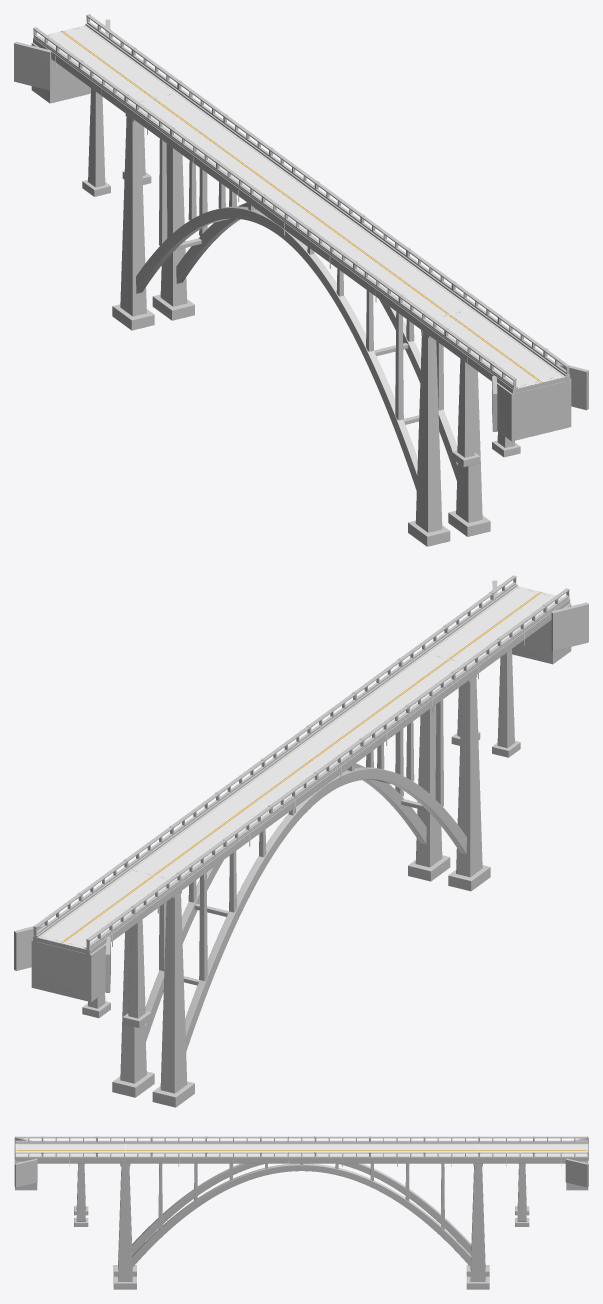
File: bridge-lod0.fbx
The picture shows the model from 3 angles, top to bottom: view 1: azimuth 30°, elevation 25°; view 2: azimuth 150°, elevation 25°; view 3: azimuth 270°, elevation 25°; orthographic projection. The views are drawn at different scales.
Parts seen in each view (by area): view 1: BridgeSupports_LOD0.001, BridgeDeck_LOD0.001, BridgeParapets_LOD0.001, BridgeArches_LOD0.001, BridgeRoadPaint_LOD0.001; view 2: BridgeSupports_LOD0.001, BridgeDeck_LOD0.001, BridgeParapets_LOD0.001, BridgeArches_LOD0.001, BridgeRoadPaint_LOD0.001; view 3: BridgeDeck_LOD0.001, BridgeSupports_LOD0.001, BridgeParapets_LOD0.001, BridgeArches_LOD0.001, BridgeRoadPaint_LOD0.001.
Boxes of the visible parts, box(x1,y1,x2,y2) form: BridgeSupports_LOD0.001: box(14, 19, 588, 546); BridgeDeck_LOD0.001: box(33, 25, 569, 396); BridgeParapets_LOD0.001: box(33, 14, 569, 389); BridgeArches_LOD0.001: box(136, 202, 457, 490); BridgeRoadPaint_LOD0.001: box(39, 25, 563, 387); BridgeSupports_LOD0.001: box(14, 580, 588, 1107); BridgeDeck_LOD0.001: box(33, 586, 569, 957); BridgeParapets_LOD0.001: box(33, 575, 569, 949); BridgeArches_LOD0.001: box(145, 763, 466, 1051); BridgeRoadPaint_LOD0.001: box(39, 586, 563, 948); BridgeDeck_LOD0.001: box(15, 1143, 588, 1163); BridgeSupports_LOD0.001: box(14, 1137, 588, 1289); BridgeParapets_LOD0.001: box(15, 1136, 588, 1158); BridgeArches_LOD0.001: box(132, 1163, 471, 1267); BridgeRoadPaint_LOD0.001: box(15, 1144, 588, 1150).
Size of the model in its own units: 12.01 by 27.16 by 104.
